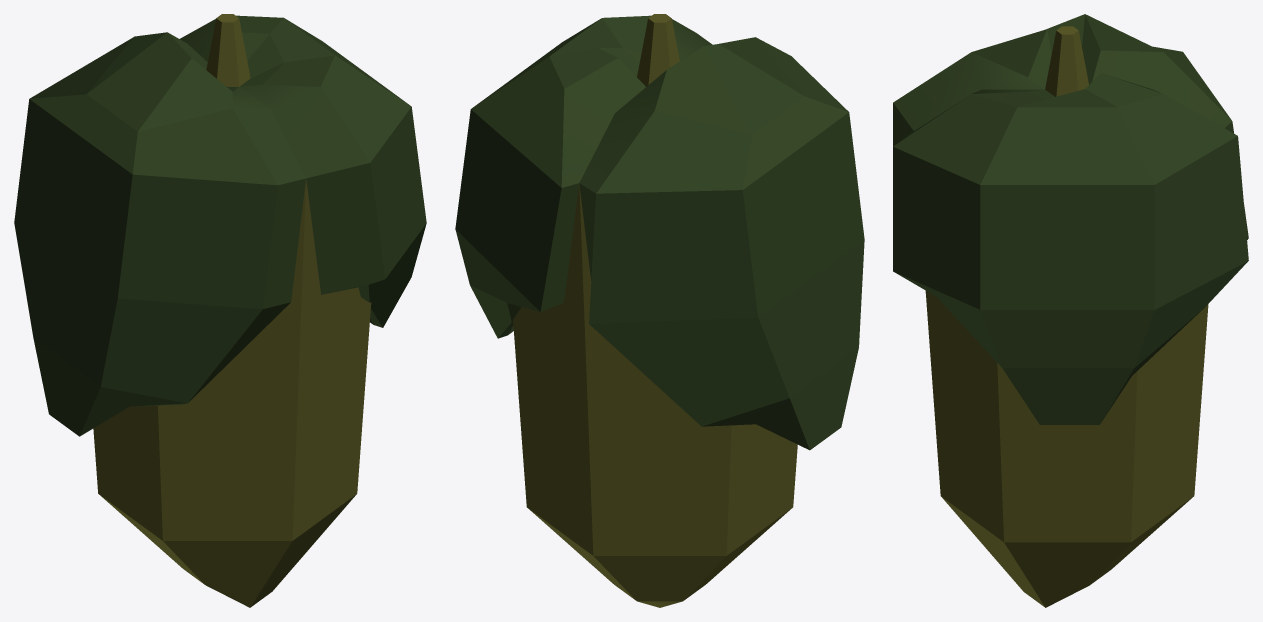
3 views of the same model, side by side, from view 1: azimuth 30°, elevation 25°; view 2: azimuth 150°, elevation 25°; view 3: azimuth 270°, elevation 25° (orthographic). The views are drawn at different scales.
Visible parts, largest first — view 1: 玉米_pCylinder9; view 2: 玉米_pCylinder9; view 3: 玉米_pCylinder9.
Boxes of the visible parts, x1,y1,x2,y2 form: 玉米_pCylinder9: (14,14,426,607); 玉米_pCylinder9: (455,14,864,607); 玉米_pCylinder9: (893,14,1248,607).
Bounding box in the file's own units: 14.53 × 14.43 × 25.13.
